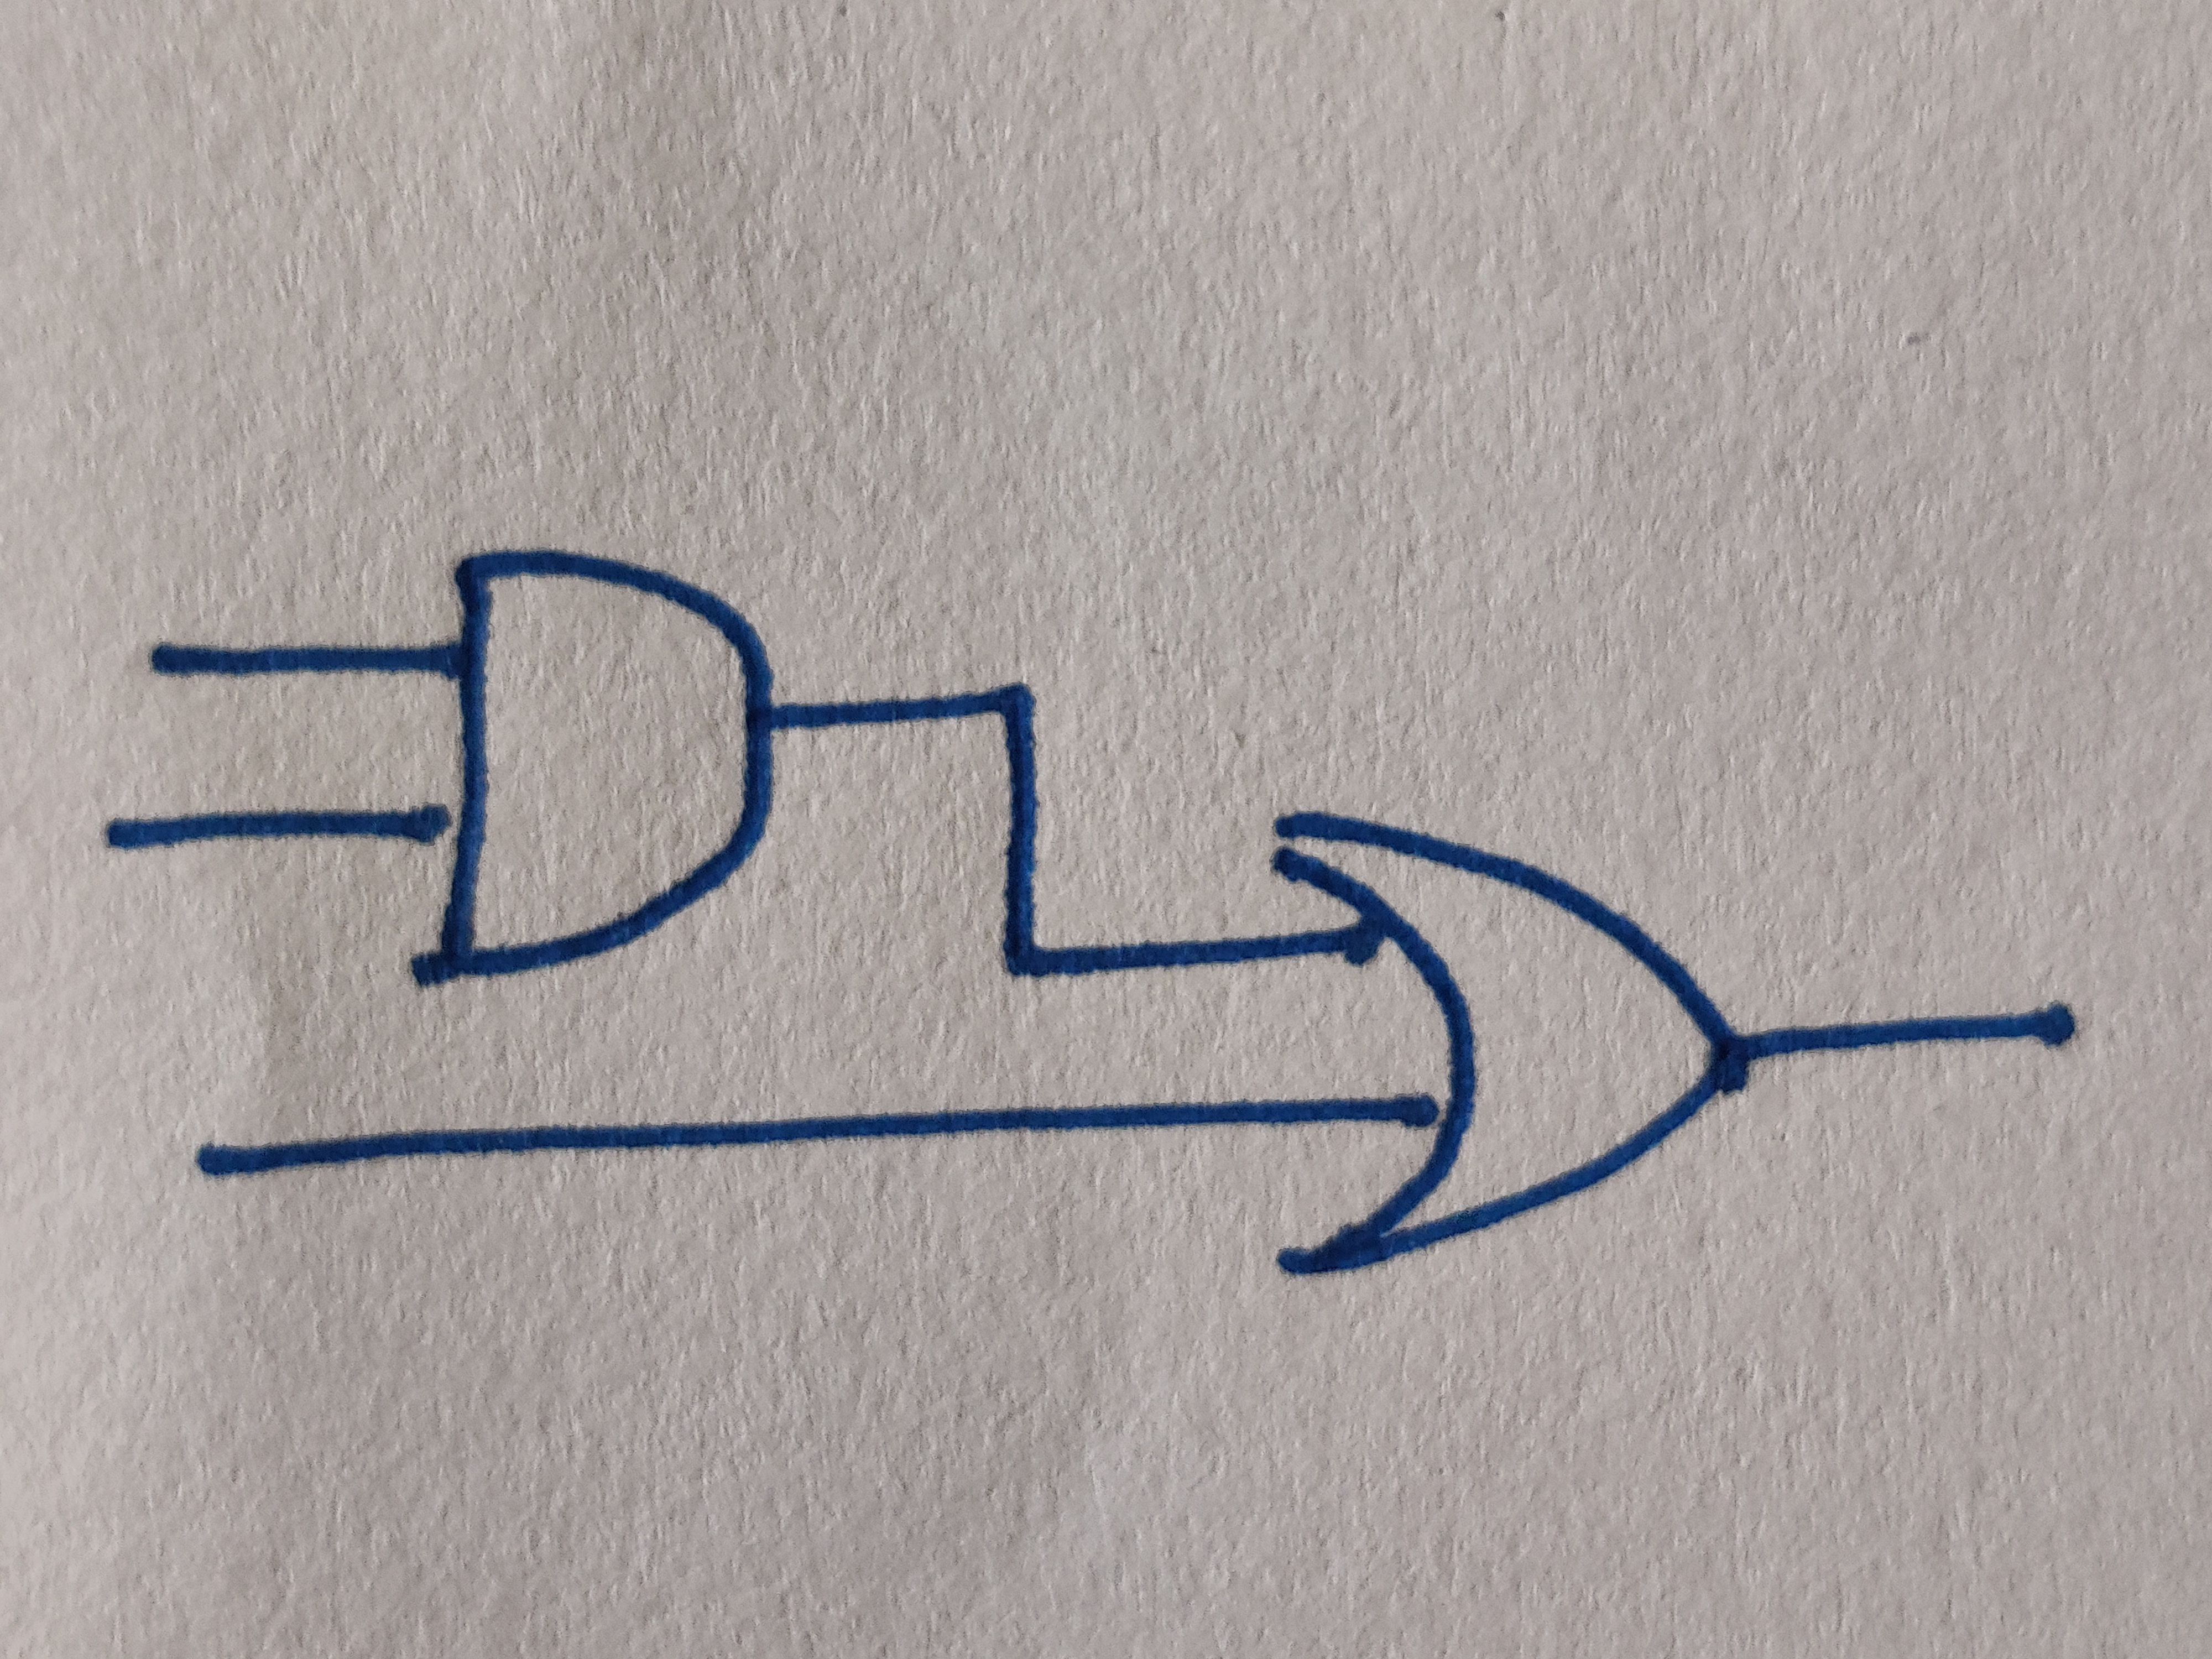and: (411, 549, 775, 983)
or: (1271, 812, 1747, 1276)
